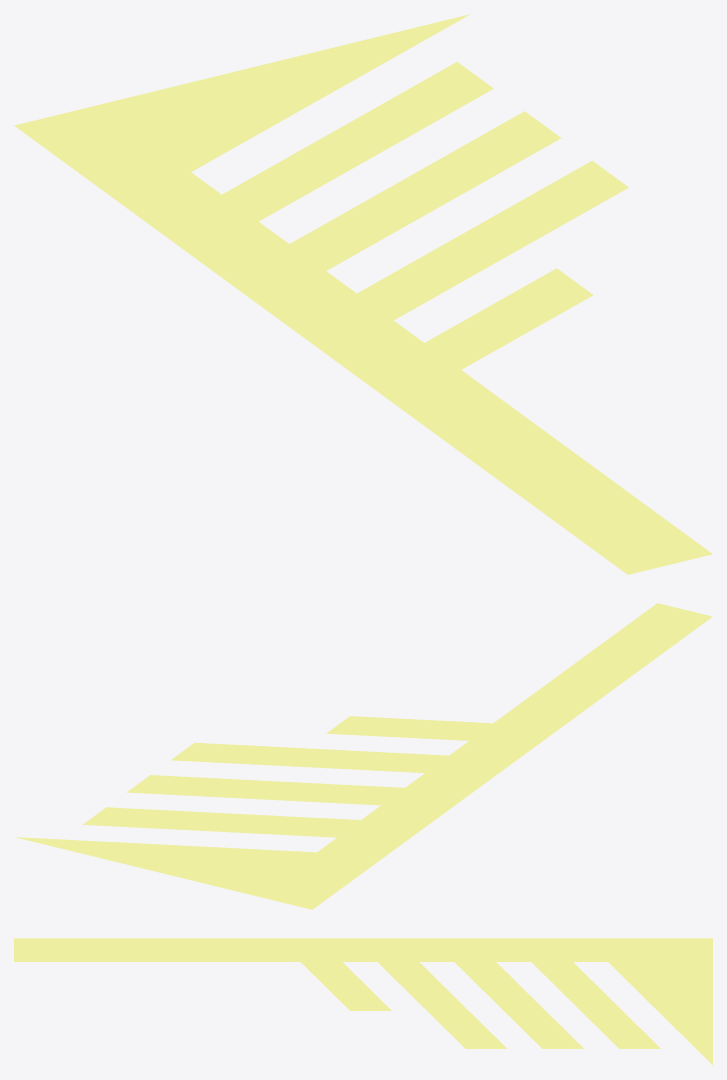
The model's file is 018nhemi08250875kts.dae.
3 views of the same model, one above another, from view 1: azimuth 30°, elevation 25°; view 2: azimuth 150°, elevation 25°; view 3: azimuth 270°, elevation 25° (orthographic). The views are drawn at different scales.
Visible parts, largest first — view 1: Plane; view 2: Plane; view 3: Plane.
Boxes of the visible parts, <box> form: Plane: <box>14,14,711,574</box>; Plane: <box>17,603,711,909</box>; Plane: <box>14,938,712,1064</box>.
Bounding box in the file's own units: 43 × 100 × 0.
